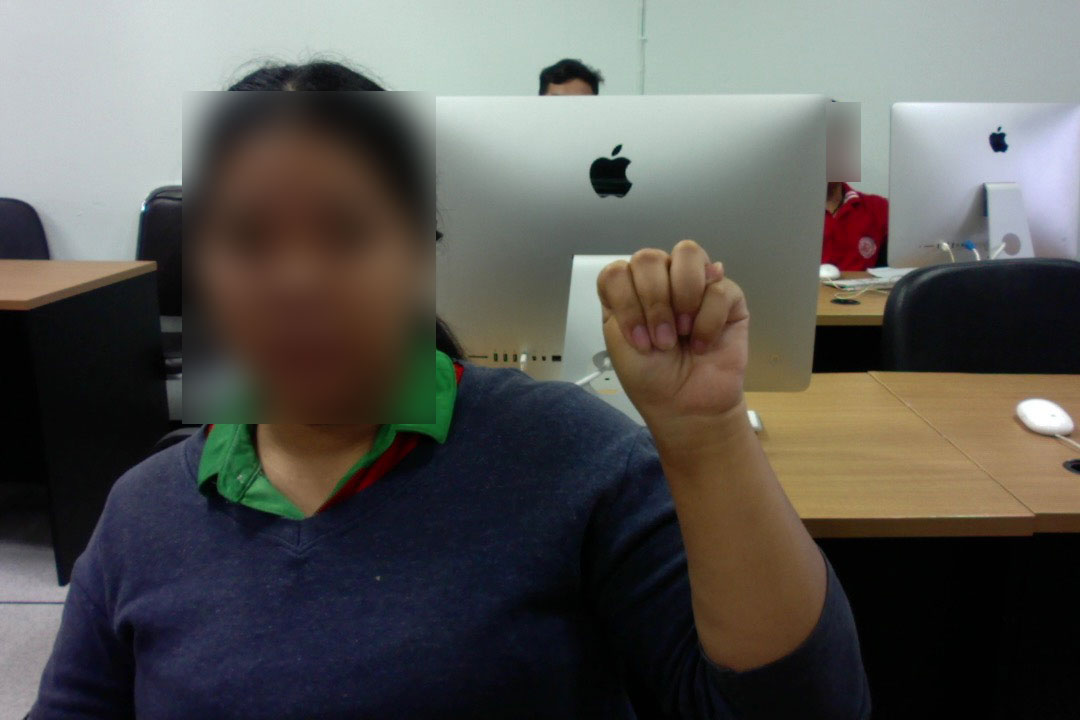mor: (588, 235, 763, 434)
